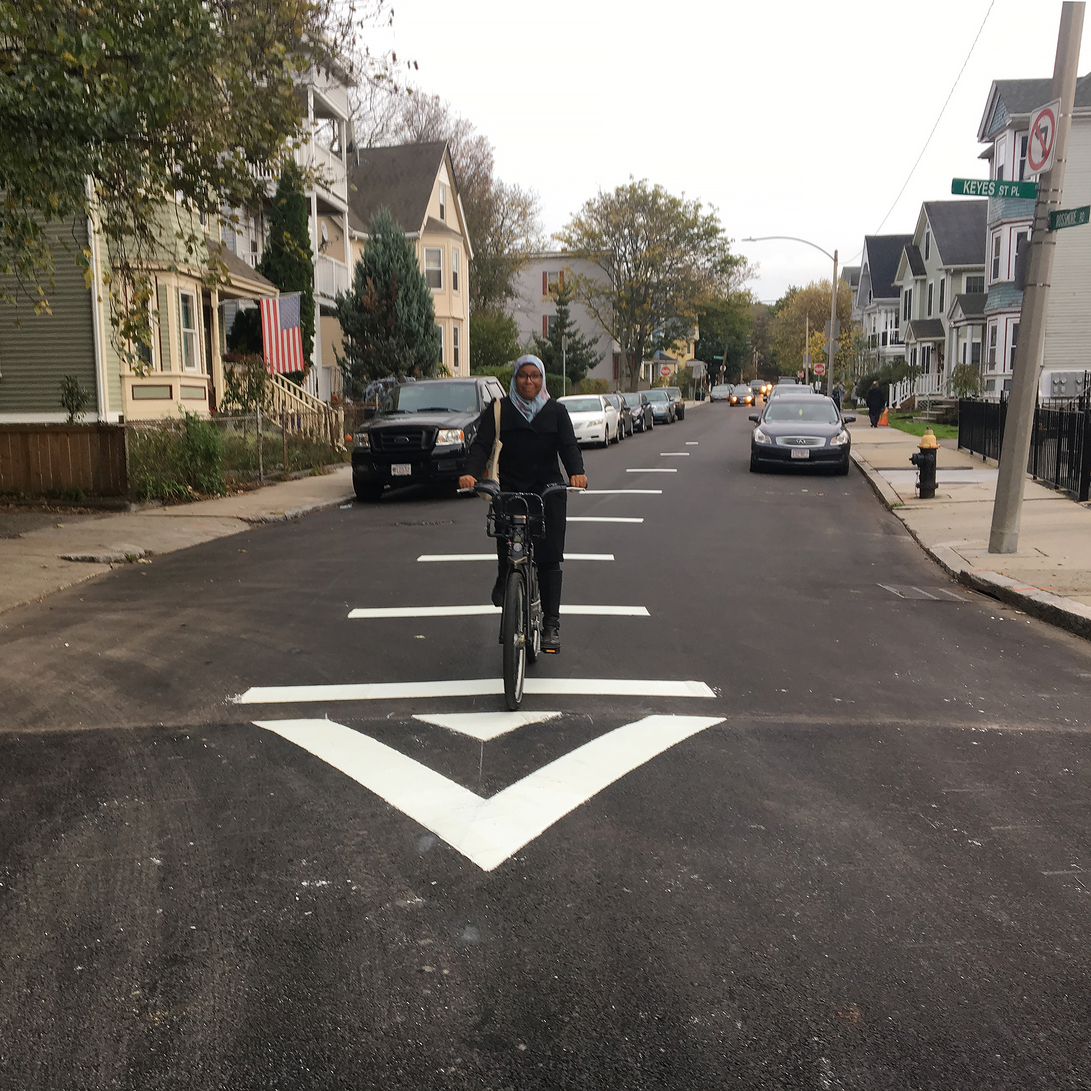Bicycle: (442, 471, 592, 699)
Car: (352, 369, 496, 506), (736, 386, 864, 483), (566, 385, 688, 441)
Tree: (562, 176, 736, 379)
